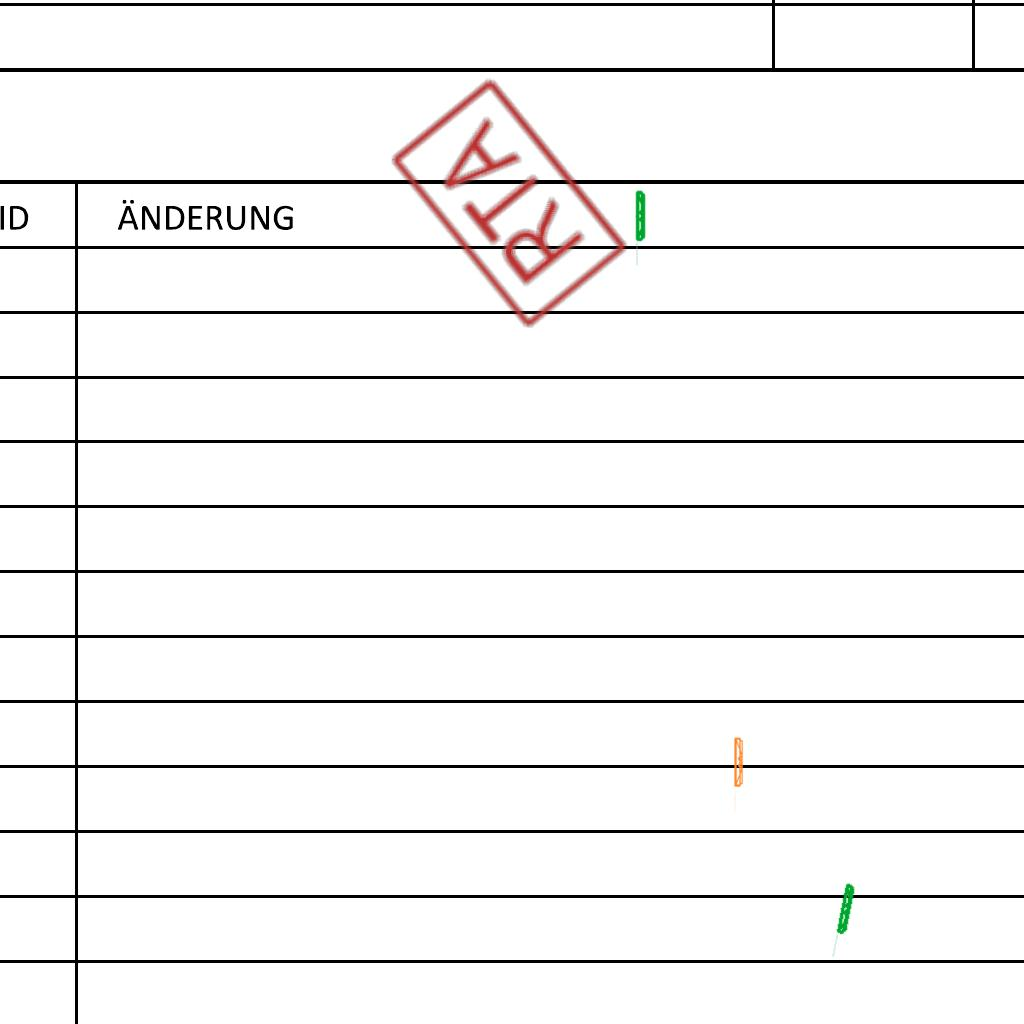Ruf-und_Abstelltaster: (385, 72, 637, 338)
Sicherheitsleuchte_Wandeinbau: (830, 881, 858, 962), (733, 735, 745, 814), (635, 189, 647, 268)
